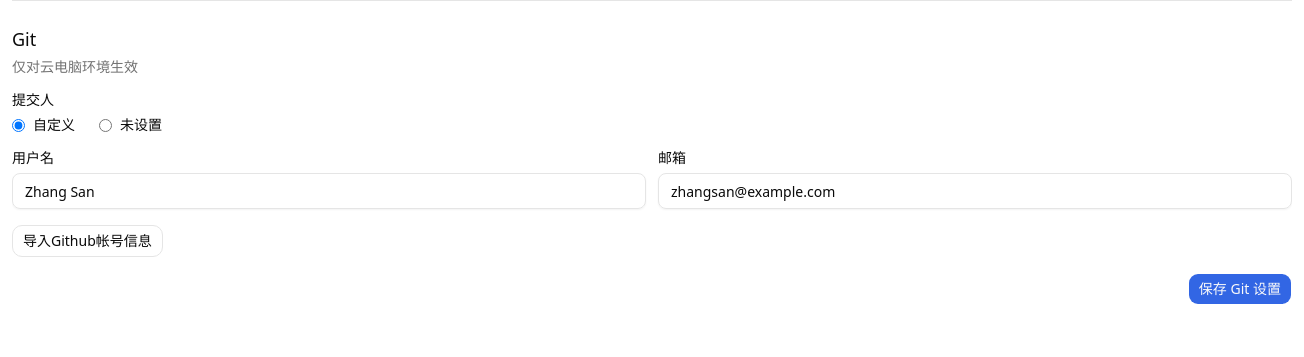
Test: GitSettingsSection › T-FE-G2 自定义校验 › 未知服务端错误原样展示
Click the button "保存 Git 设置". click: (1240, 289)
box: [1188,273,1292,305]
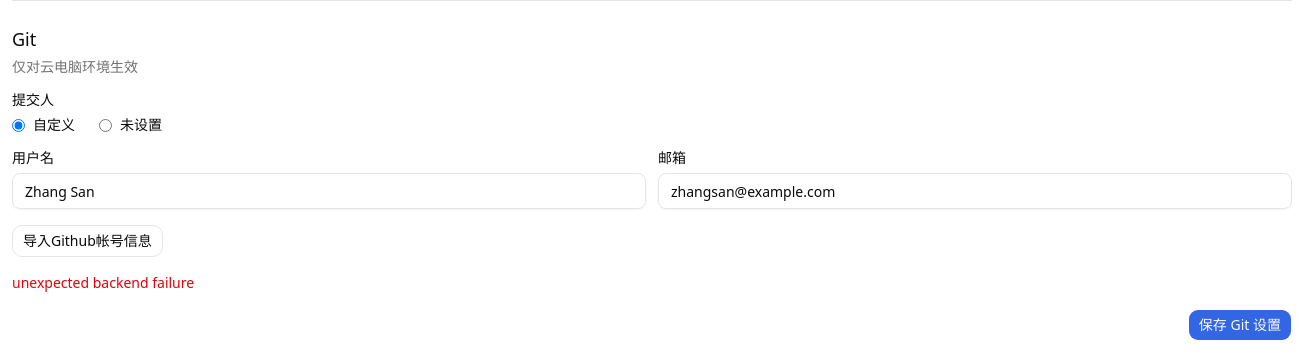
Expected: the message reads "unexpected backend failure", [12,273,194,292]
